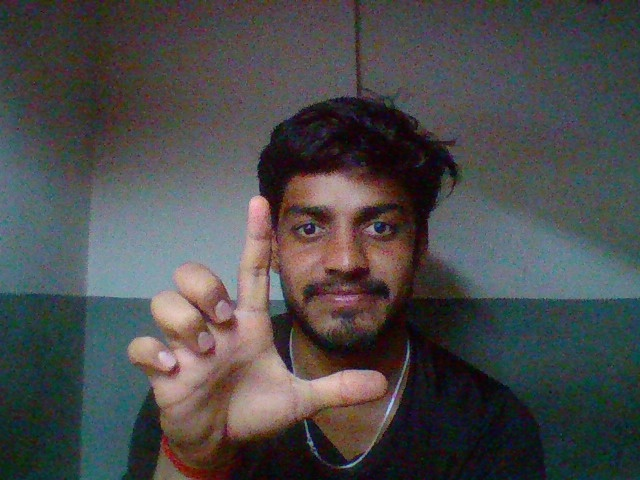L: (117, 184, 395, 438)
